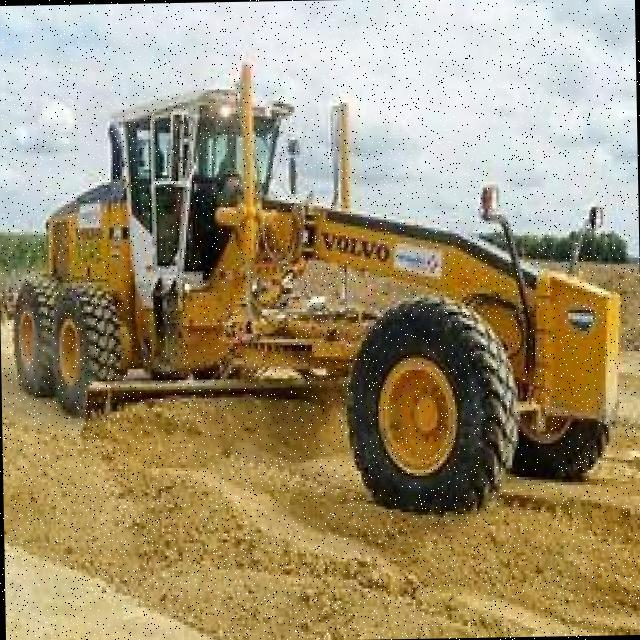Grader: (2, 65, 605, 522)
